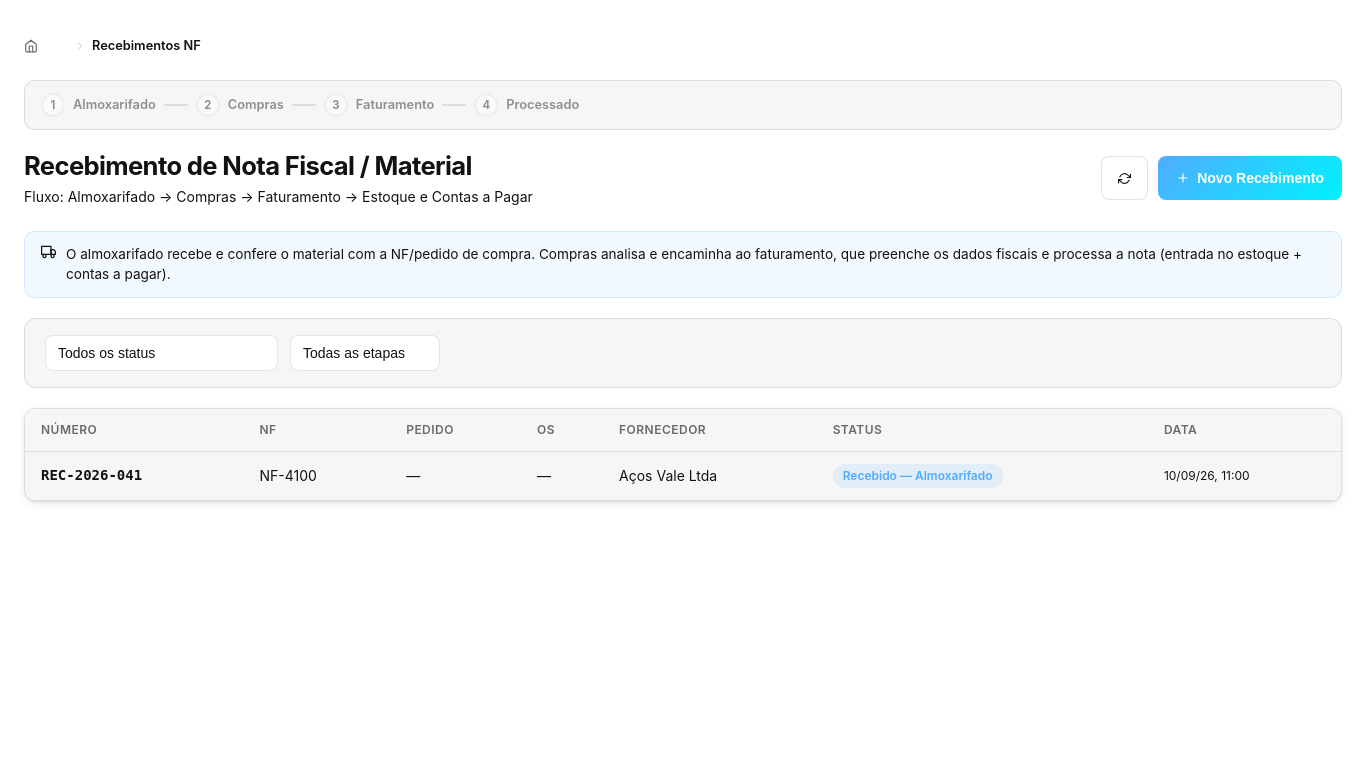
Test: (d2) a FALHA atrasada do pedido abandonado tambem nao aparece sobre o pedido escolhido
The image size is (1366, 768).
Click the button "Novo Recebimento" at [1250, 178], box [1158,156,1342,200]
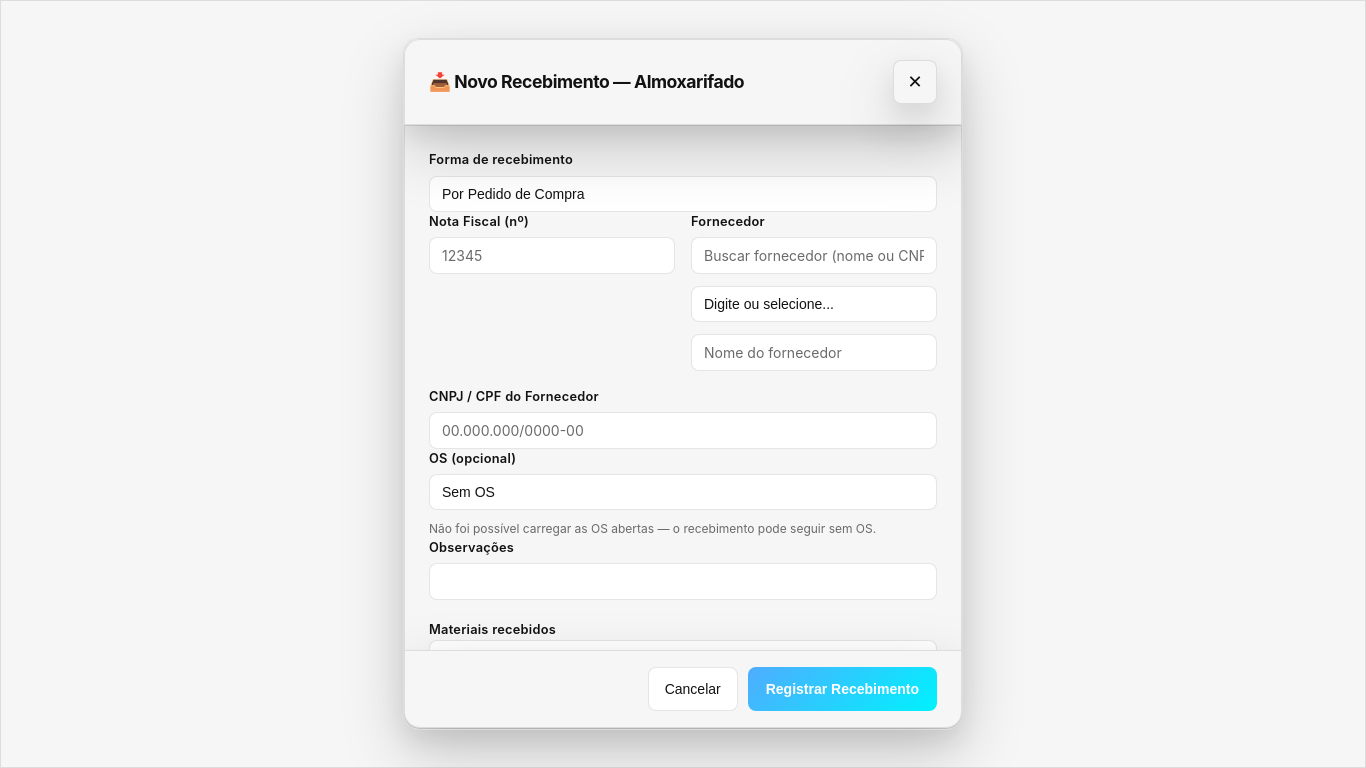
Select "Por Pedido de Compra" in the dropdown below "Forma de recebimento" at [683, 194], box [429,176,937,212]
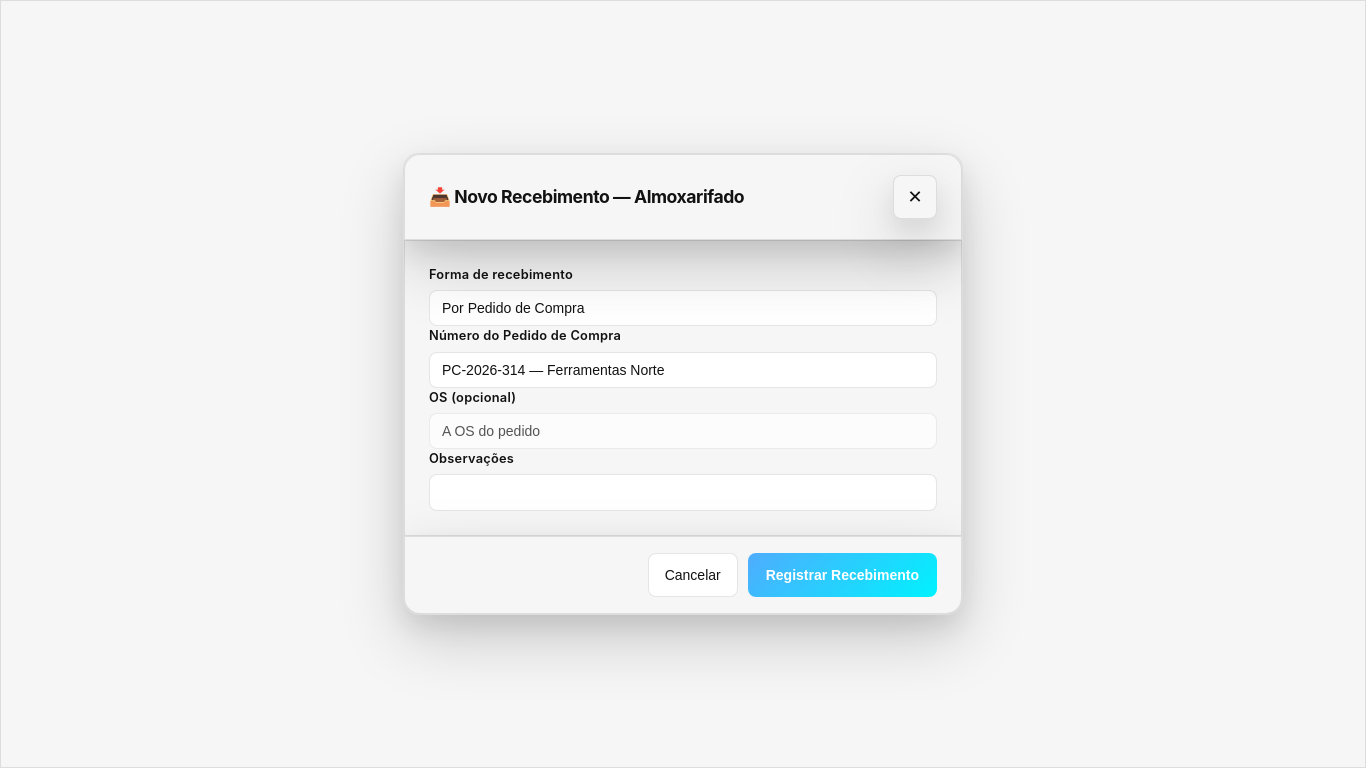
Select "PC-2026-314 — Ferramentas Norte" in the dropdown below "Número do Pedido de Compra" at [683, 370], box [429,352,937,388]
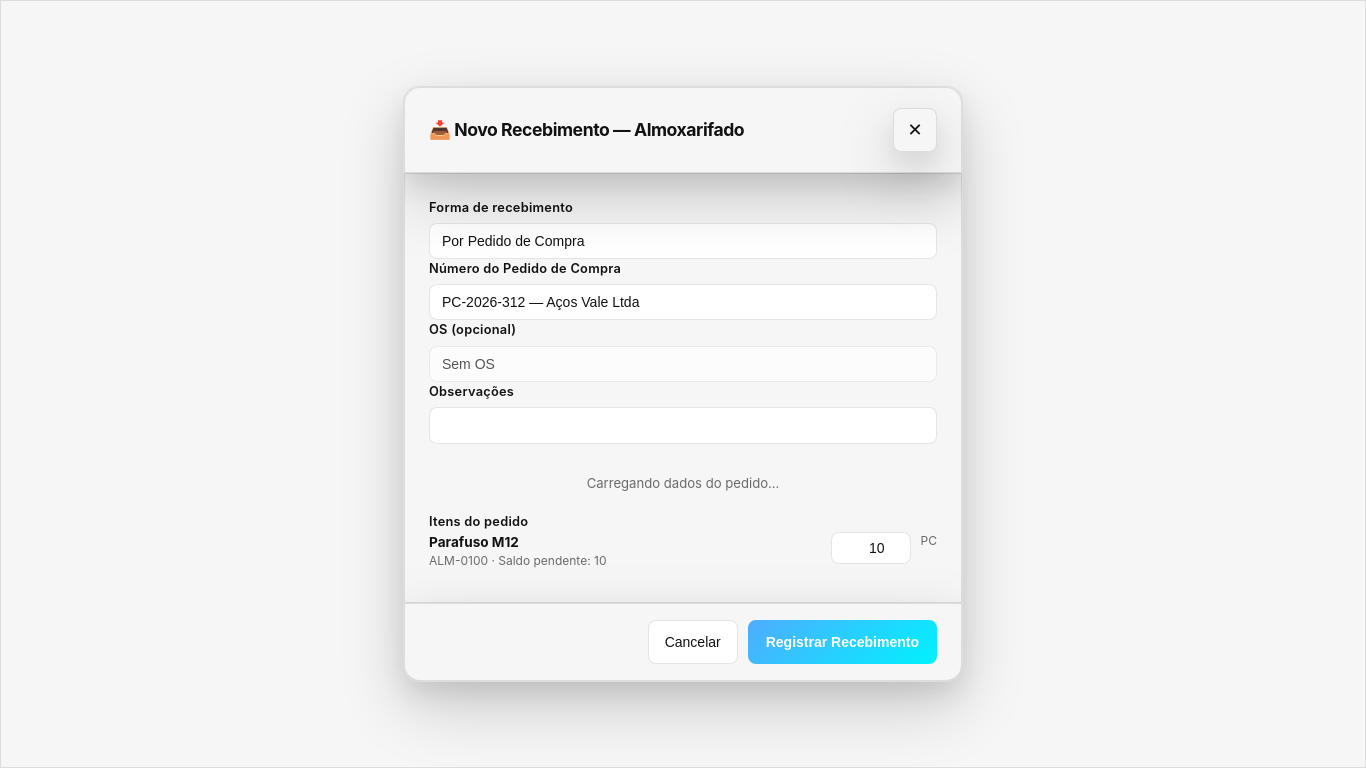
Select "PC-2026-312 — Aços Vale Ltda" in the dropdown below "Número do Pedido de Compra" at [683, 302], box [429,284,937,320]
(page scrolled)
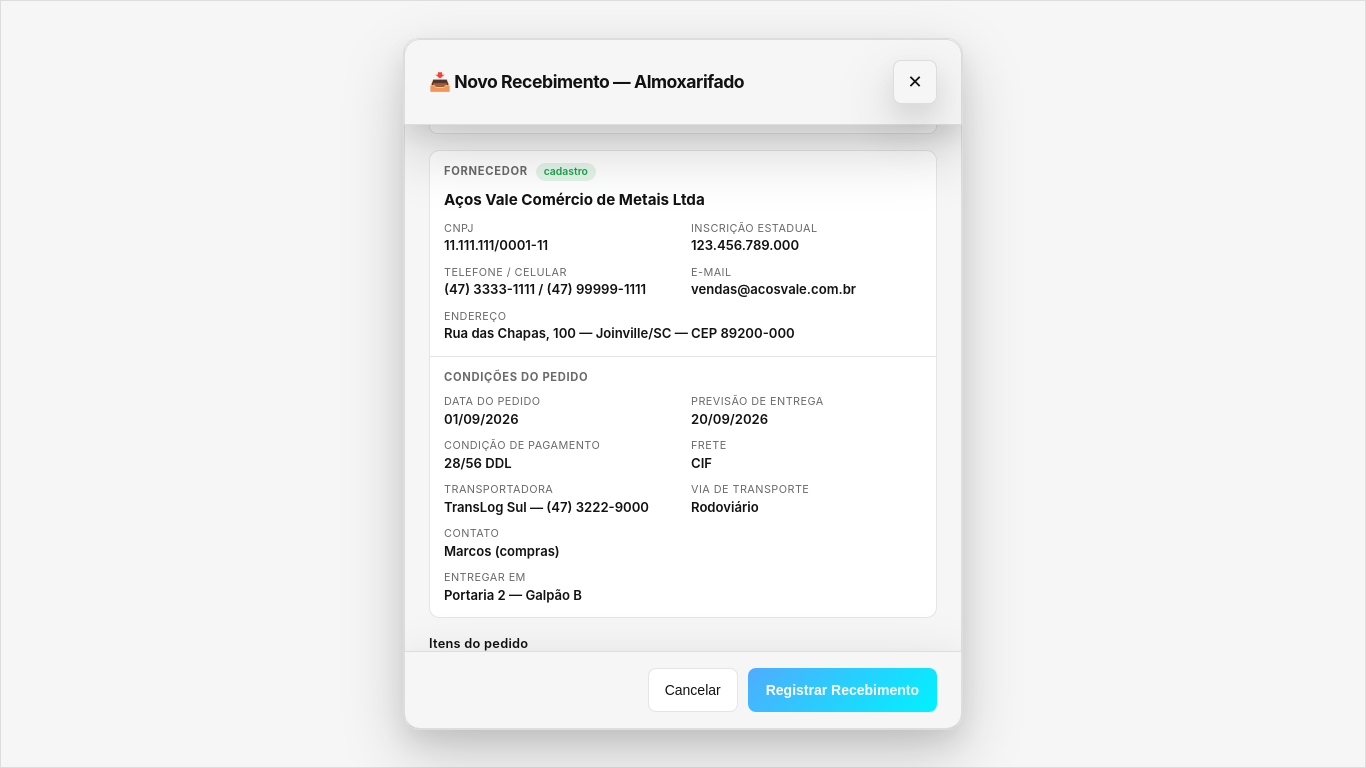
Check: the element with test id "painel-pedido" is shown, box [429,150,937,618]
Check: the element with test id "painel-pedido" shows "Aços Vale Comércio", box [444,190,705,209]
